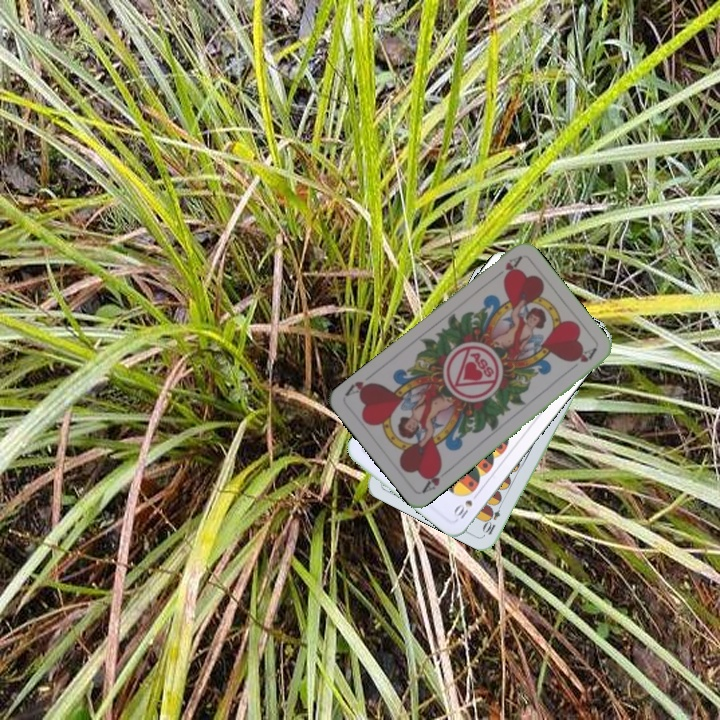E10: (480, 498, 505, 537)
HA: (418, 462, 452, 496), (489, 252, 524, 282)
S10: (449, 495, 475, 522)
